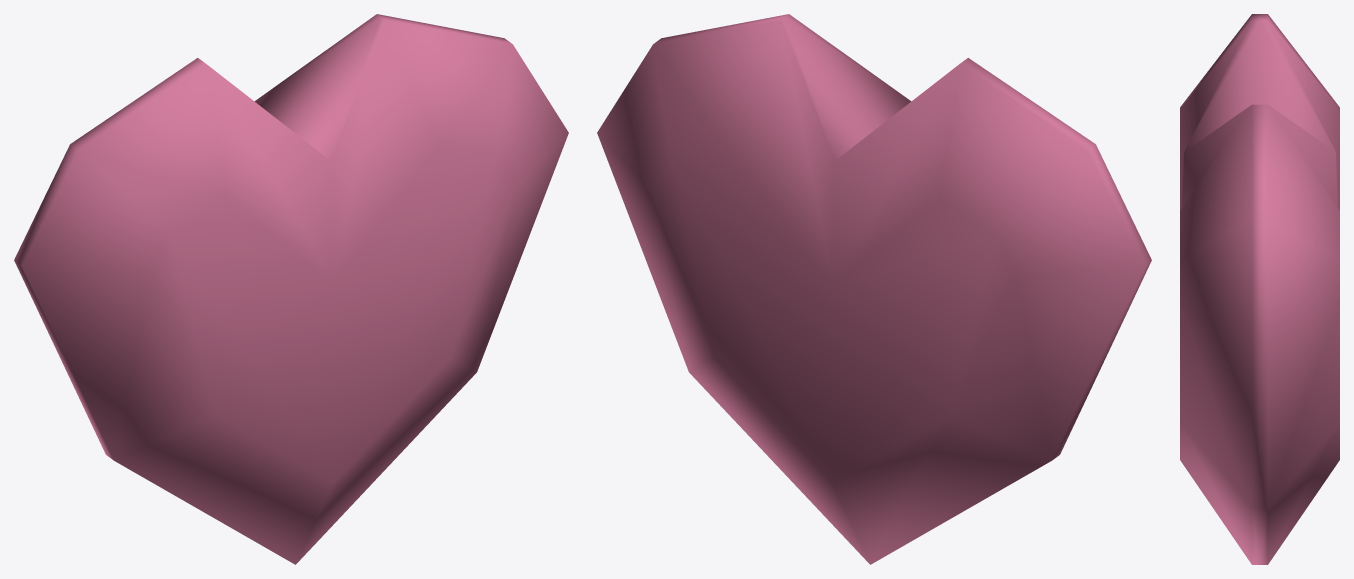
File: Health.fbx
3 renders of one model, left to right at view 1: azimuth 30°, elevation 25°; view 2: azimuth 150°, elevation 25°; view 3: azimuth 270°, elevation 25°, orthographic. The views are drawn at different scales.
Parts seen in each view (by area): view 1: Heart; view 2: Heart; view 3: Heart.
Boxes of the visible parts, x1=… form: Heart: x1=14, y1=14, x2=568, y2=564; Heart: x1=597, y1=14, x2=1151, y2=564; Heart: x1=1180, y1=14, x2=1339, y2=564.
Bounding box in the file's own units: 203 × 185 × 53.51.
